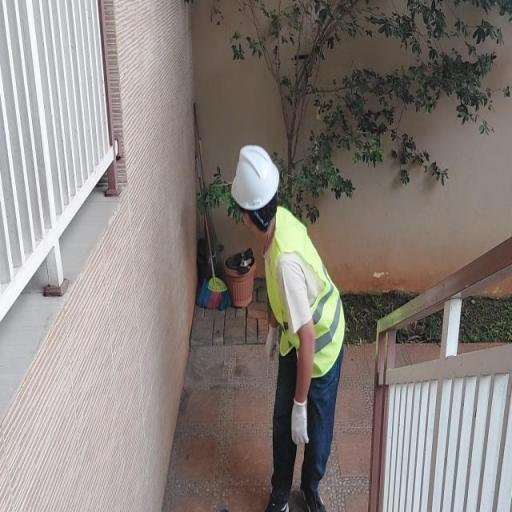Hardhat: (208, 131, 368, 512)
Mask: (259, 486, 332, 512)
NO-Hardhat: (288, 400, 315, 445), (263, 331, 281, 361)
NO-Safety Vest: (227, 146, 281, 210)
vehicle: (255, 205, 351, 372)
